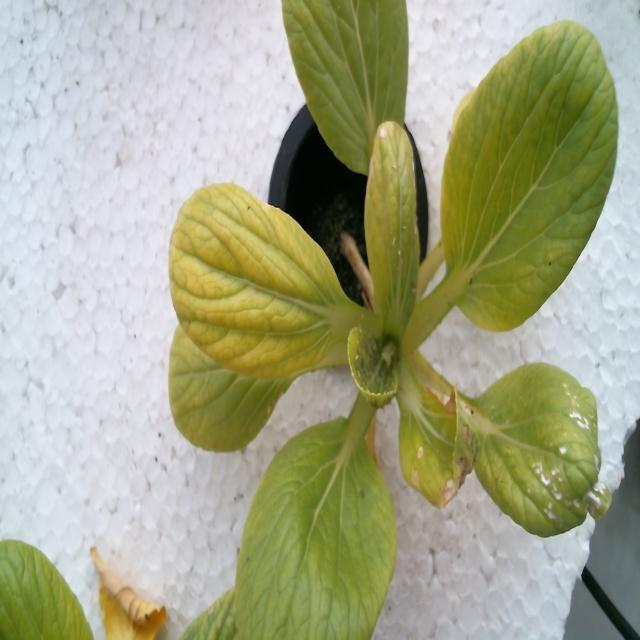pakcoy_tidak_sehat: (175, 0, 615, 634)
